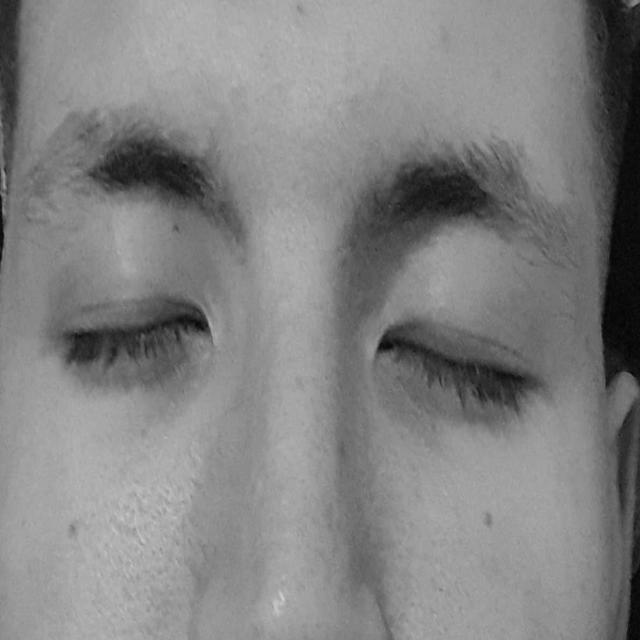real: (30, 144, 580, 514)
